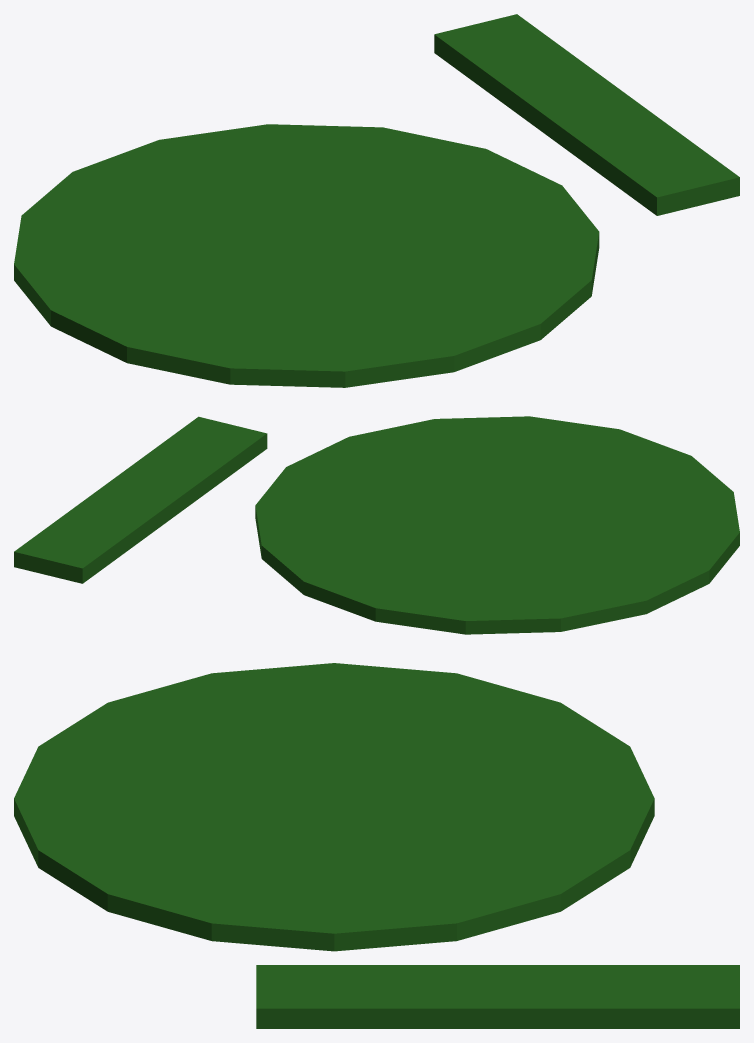
Rendered from Turret0_Deco.glb.
3 renders of one model, top to bottom at view 1: azimuth 30°, elevation 25°; view 2: azimuth 150°, elevation 25°; view 3: azimuth 270°, elevation 25°, orthographic. The views are drawn at different scales.
Visible parts, largest first — view 1: Turret0 Deco; view 2: Turret0 Deco; view 3: Turret0 Deco.
Part boxes in pixels (left/top/right/bottom): Turret0 Deco: left=14, top=14, right=739, bottom=387; Turret0 Deco: left=14, top=416, right=739, bottom=634; Turret0 Deco: left=14, top=663, right=739, bottom=1028.
Bounding box in the file's own units: 0.5183 × 0.0141 × 0.4599.
